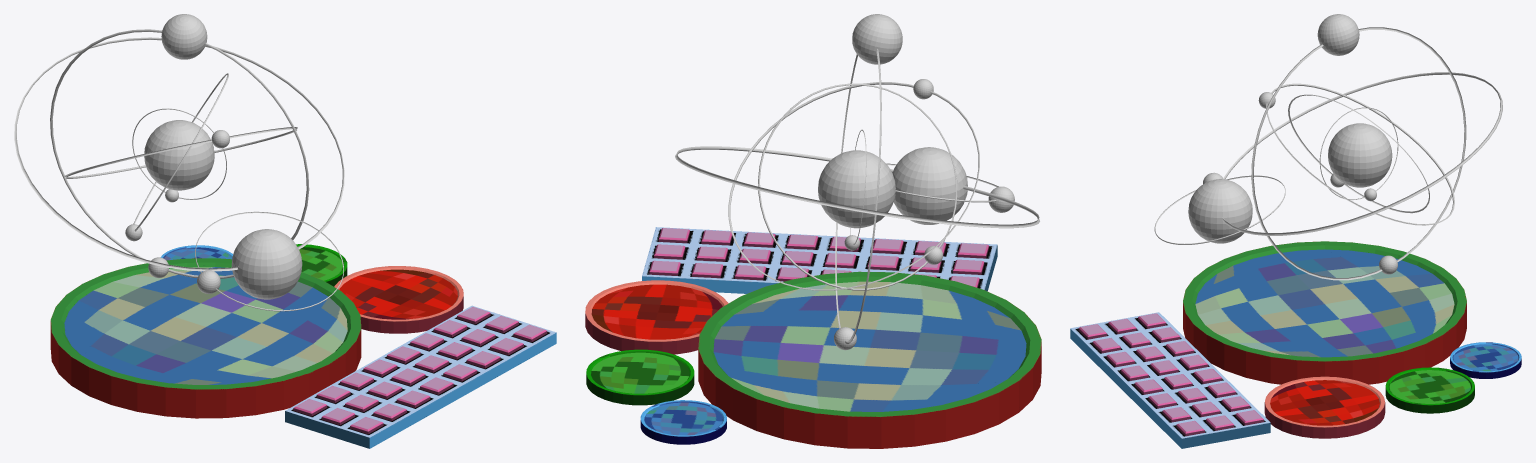
Rendered from HOLO_device.fbx.
3 views of the same model, side by side, from view 1: azimuth 30°, elevation 25°; view 2: azimuth 150°, elevation 25°; view 3: azimuth 270°, elevation 25° (orthographic). The views are drawn at different scales.
Parts seen in each view (by area): view 1: Cylinder.002, Cube.001, Cylinder, Sphere.001, Sphere.006, BezierCircle.002, BezierCircle.005, Sphere.003, Cylinder.003, BezierCircle.001, Cylinder.004, BezierCircle (+1 smaller); view 2: Cylinder.002, Cylinder, Cube.001, Cylinder.003, Sphere.006, Sphere.001, Cylinder.004, BezierCircle.002, Sphere.003, BezierCircle.001, BezierCircle.003, BezierCircle.005 (+1 smaller); view 3: Cylinder.002, Cube.001, Cylinder, Cylinder.003, Sphere.006, Sphere.001, Cylinder.004, BezierCircle.002, BezierCircle.005, Sphere.003, BezierCircle.001, BezierCircle.003 (+1 smaller).
Boxes of the visible parts, <box> form: Cylinder.002: <box>50,258,361,418</box>; Cube.001: <box>285,305,556,448</box>; Cylinder: <box>334,266,463,333</box>; Sphere.001: <box>231,229,302,299</box>; Sphere.006: <box>144,120,214,190</box>; BezierCircle.002: <box>14,37,344,271</box>; BezierCircle.005: <box>50,29,309,278</box>; Sphere.003: <box>161,14,207,59</box>; Cylinder.003: <box>296,244,347,286</box>; BezierCircle.001: <box>64,127,297,178</box>; Cylinder.004: <box>160,245,233,260</box>; BezierCircle: <box>195,211,343,311</box>; Cylinder.002: <box>698,271,1041,448</box>; Cylinder: <box>585,280,728,354</box>; Cube.001: <box>642,227,997,293</box>; Cylinder.003: <box>586,349,694,405</box>; Sphere.006: <box>818,150,895,228</box>; Sphere.001: <box>892,147,967,224</box>; Cylinder.004: <box>640,400,726,444</box>; BezierCircle.002: <box>675,146,1039,228</box>; Sphere.003: <box>852,14,902,64</box>; BezierCircle.001: <box>728,82,979,290</box>; BezierCircle.003: <box>758,83,957,290</box>; BezierCircle.005: <box>835,49,881,344</box>; Cylinder.002: <box>1183,241,1466,384</box>; Cube.001: <box>1070,312,1270,448</box>; Cylinder: <box>1264,376,1385,438</box>; Cylinder.003: <box>1385,367,1474,413</box>; Sphere.006: <box>1328,123,1392,187</box>; Sphere.001: <box>1188,179,1252,243</box>; Cylinder.004: <box>1450,342,1521,378</box>; BezierCircle.002: <box>1222,72,1502,235</box>; BezierCircle.005: <box>1251,27,1466,280</box>; Sphere.003: <box>1317,14,1359,55</box>; BezierCircle.001: <box>1266,83,1454,225</box>; BezierCircle.003: <box>1288,94,1429,213</box>.
Size of the model in its own units: 315 by 237 by 318.
